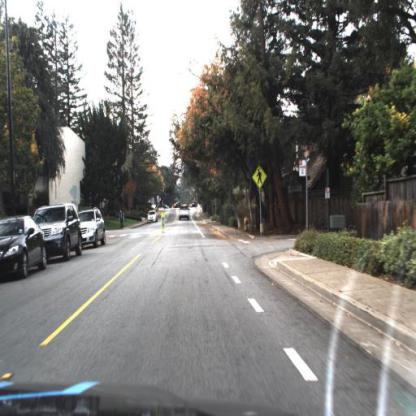car: (1, 217, 48, 282), (46, 202, 84, 262), (83, 203, 105, 253), (85, 207, 105, 251), (178, 202, 191, 225), (147, 207, 159, 227)
pedestrian: (119, 209, 127, 230), (86, 224, 91, 241)
